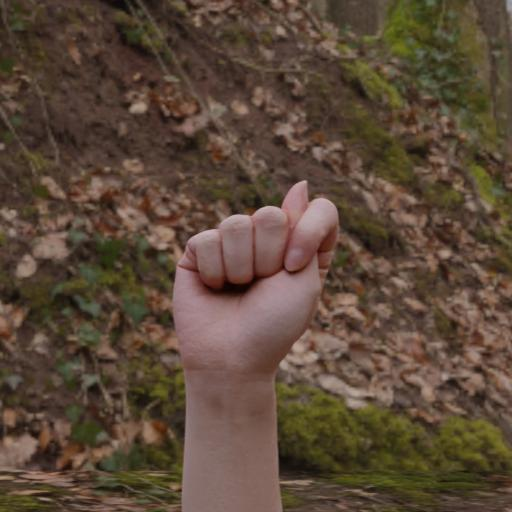T: (139, 171, 354, 415)
